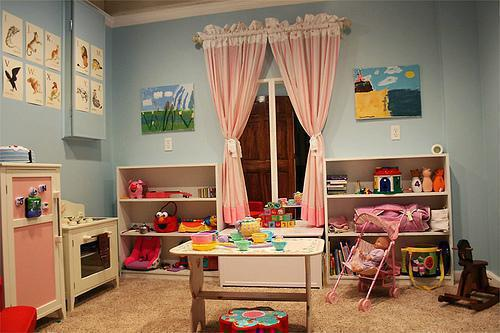Otro Obstaculo: (331, 205, 406, 304), (436, 227, 499, 312)
